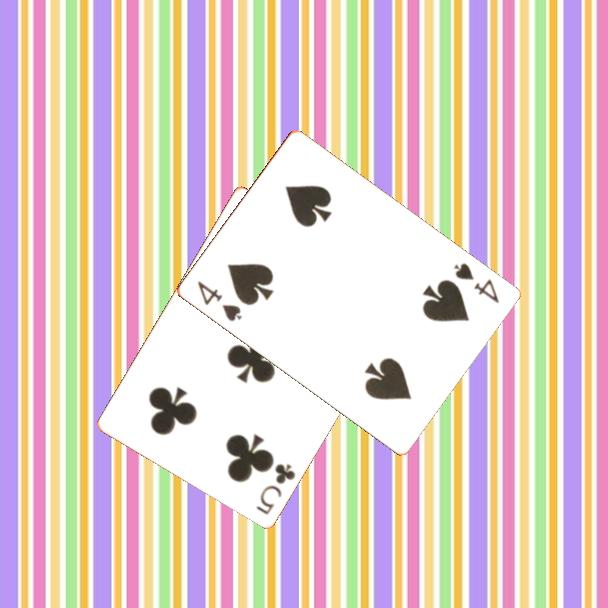c05: (252, 459, 298, 517)
s04: (193, 277, 245, 325), (450, 259, 502, 307)
